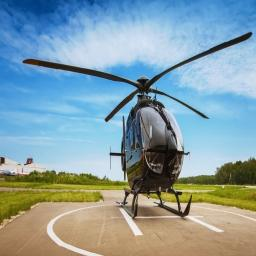helicopter: (22, 33, 253, 218)
